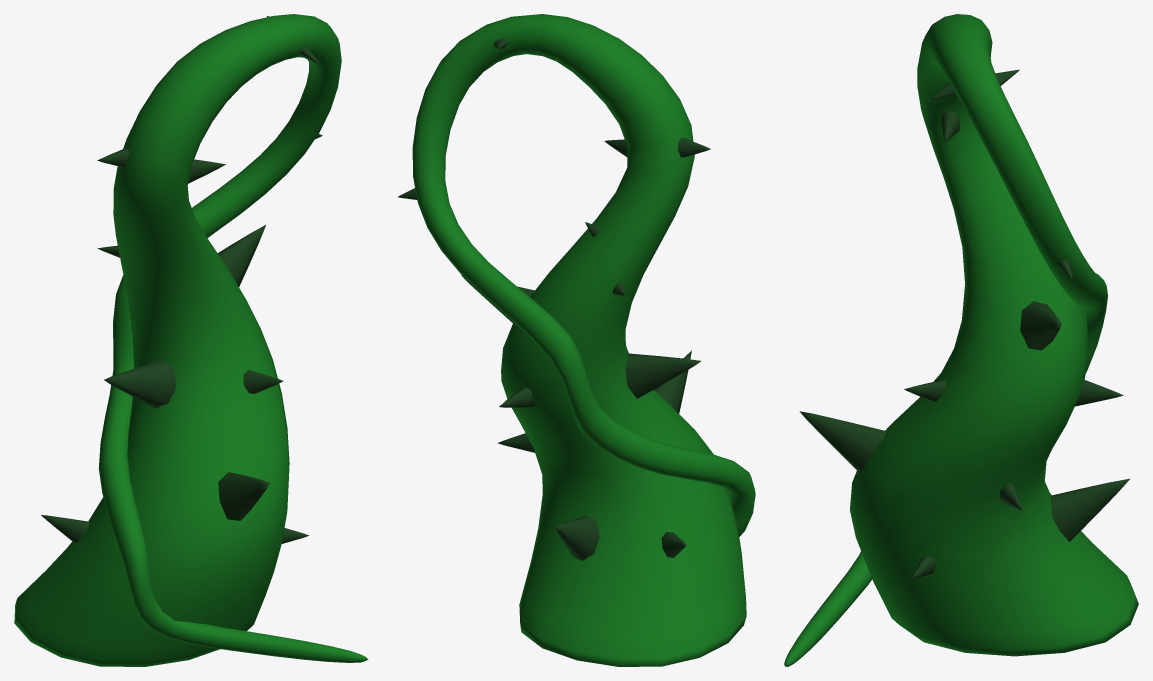
File: Vine_2.fbx
The picture shows the model from 3 angles, left to right: view 1: azimuth 30°, elevation 25°; view 2: azimuth 150°, elevation 25°; view 3: azimuth 270°, elevation 25°; orthographic projection. The views are drawn at different scales.
Visible parts, largest first — view 1: Vine_2; view 2: Vine_2; view 3: Vine_2.
Part boxes in pixels (x1,y1,x2,y2): Vine_2: [14, 14, 368, 666]; Vine_2: [397, 14, 755, 666]; Vine_2: [784, 14, 1138, 666].
Bounding box in the file's own units: 304 × 538 × 273.
